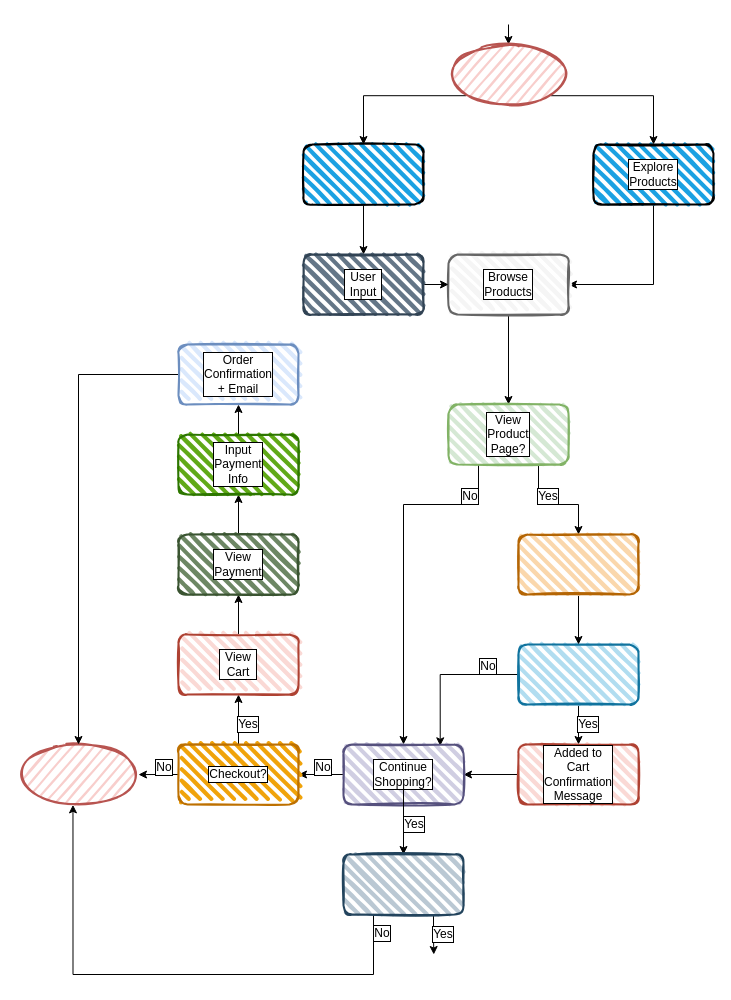
Some shapes in this 731 by 1000 pixel diagram are drawn without their labels. Here are the shapes that lost their labels. From the top down, the centre of each, then its label:
[508,74]: Enter Site
[363,174]: Search Products
[578,564]: Product Page
[578,674]: Add to Cart?
[78,774]: Leave Site
[403,884]: Search for a New Product?
